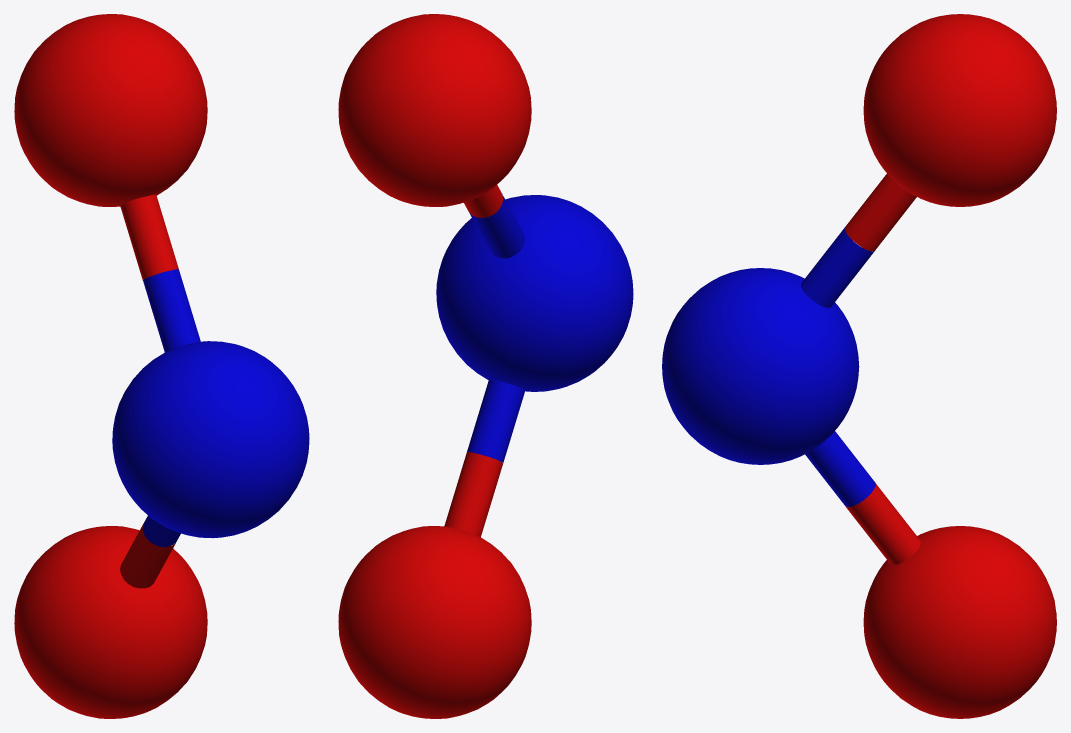
3 renders of one model, left to right at view 1: azimuth 30°, elevation 25°; view 2: azimuth 150°, elevation 25°; view 3: azimuth 270°, elevation 25°, orthographic.
Visible parts, largest first — view 1: NO2; view 2: NO2; view 3: NO2.
Part boxes in pixels (bbox=[...]): NO2: bbox=[14, 14, 309, 718]; NO2: bbox=[338, 14, 633, 718]; NO2: bbox=[662, 14, 1056, 718].
Size of the model in its own units: 0.4599 by 1.77 by 0.9211.
